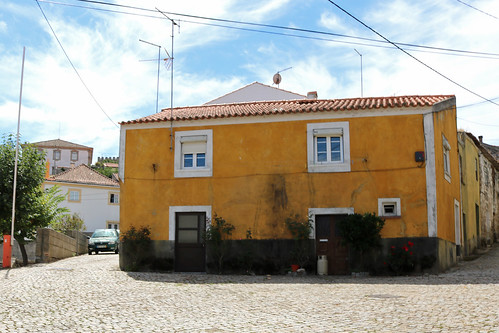medium: (114, 81, 471, 278)
